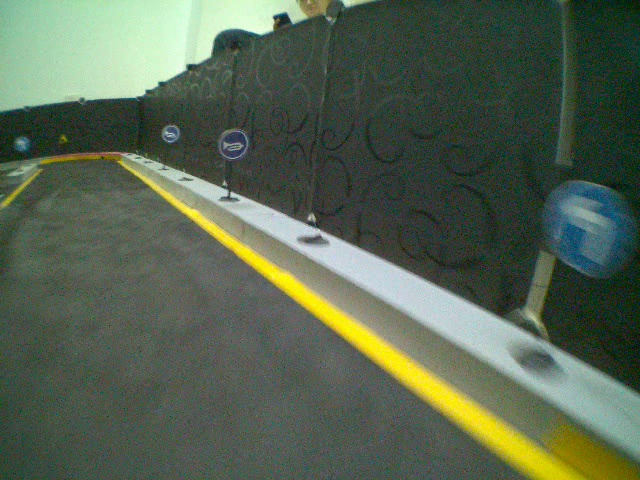horn: (217, 128, 248, 161), (162, 124, 179, 143)
